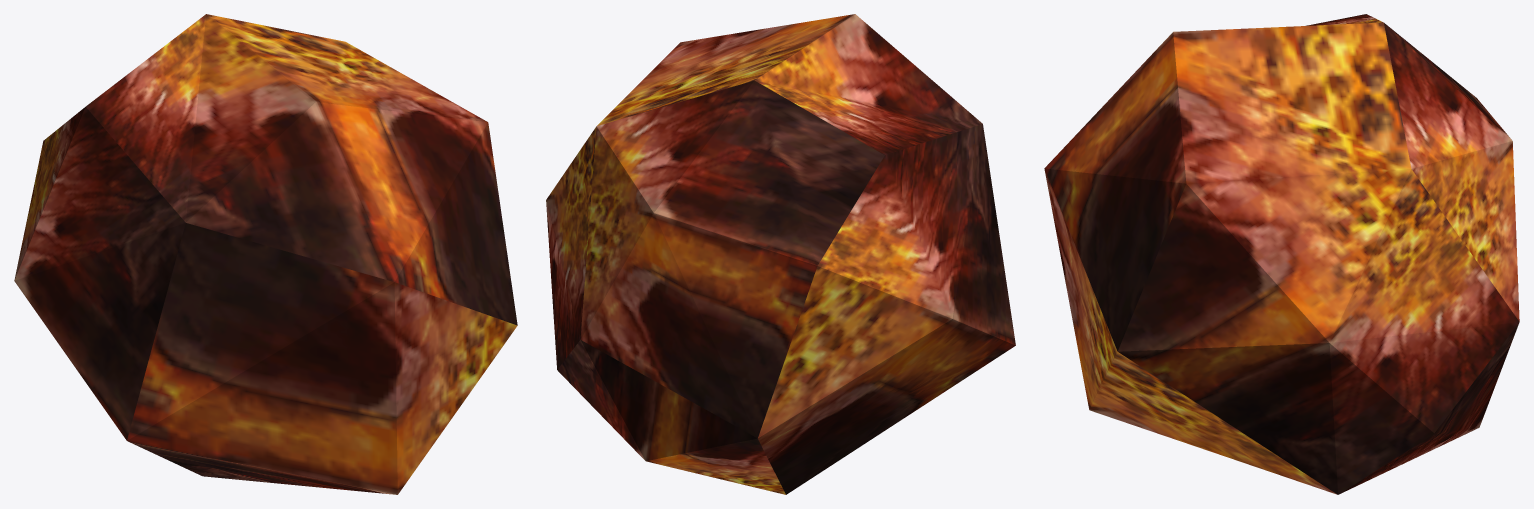
The model's file is xiaohuoshan01_huoshan.obj.
3 renders of one model, left to right at view 1: azimuth 30°, elevation 25°; view 2: azimuth 150°, elevation 25°; view 3: azimuth 270°, elevation 25°, orthographic. The views are drawn at different scales.
Visible parts, largest first — view 1: Box08; view 2: Box08; view 3: Box08.
Boxes of the visible parts, bbox=[...] form: Box08: bbox=[14, 14, 517, 494]; Box08: bbox=[546, 14, 1015, 494]; Box08: bbox=[1044, 14, 1519, 494].
Size of the model in its own units: 14.87 by 14.09 by 13.98.
1 material, 1 textured.
